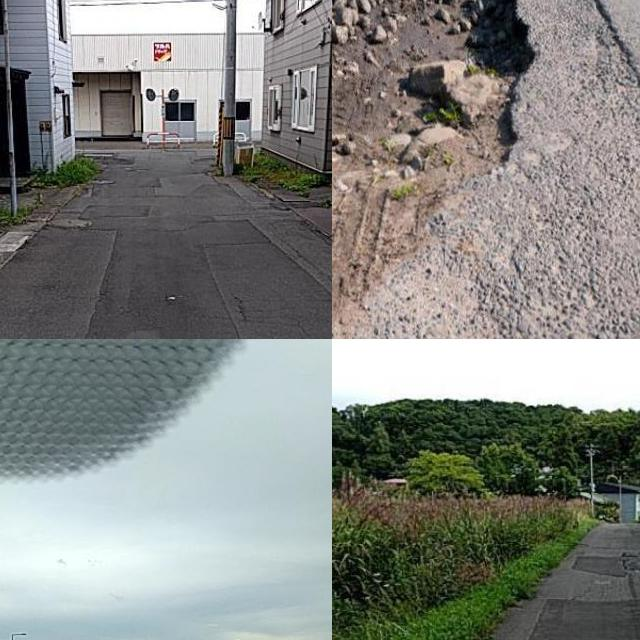Pinggir: (352, 0, 552, 223)
Sambungan: (85, 222, 332, 339), (532, 595, 640, 640)
